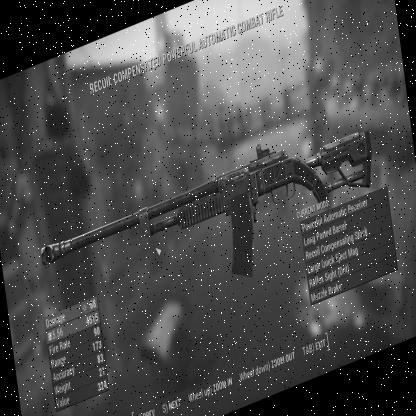rifle: (30, 96, 376, 354)
